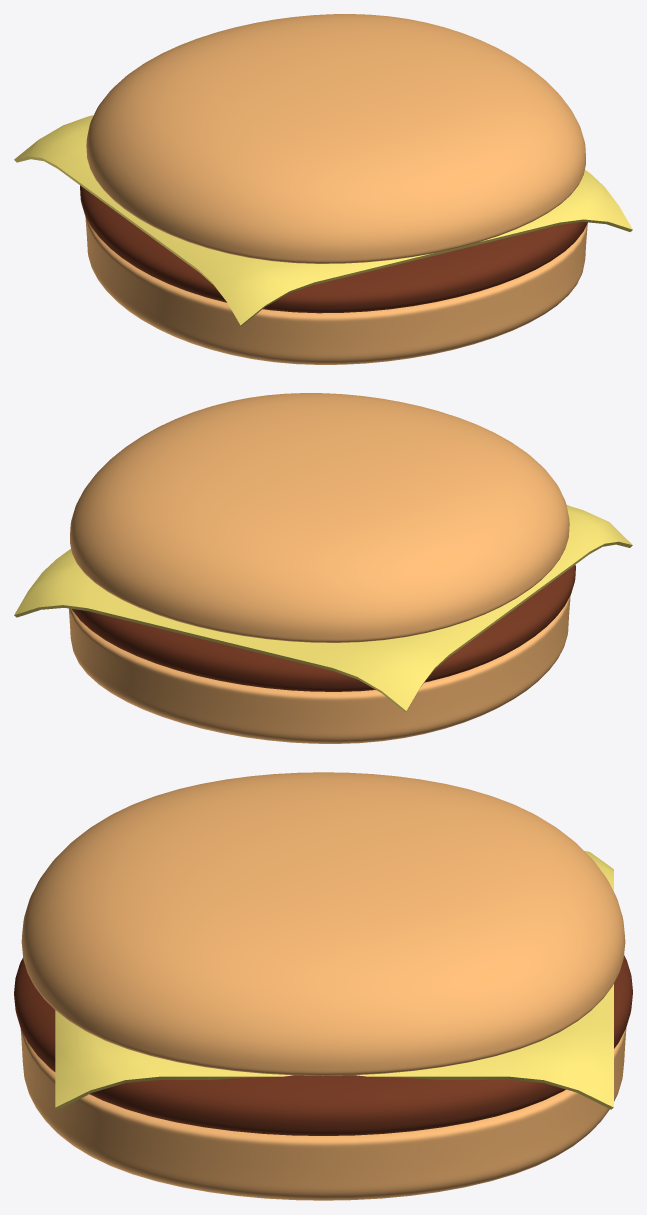
File: hamburger.glb
3 renders of one model, top to bottom at view 1: azimuth 30°, elevation 25°; view 2: azimuth 150°, elevation 25°; view 3: azimuth 270°, elevation 25°, orthographic. The views are drawn at different scales.
Parts seen in each view (by area): view 1: Cube.002, Cube, Cube.001, Plane; view 2: Cube.002, Cube, Plane, Cube.001; view 3: Cube.002, Cube, Cube.001, Plane.
Part boxes in pixels (bbox=[...]): Cube.002: bbox=[86, 14, 585, 263]; Cube: bbox=[85, 216, 587, 364]; Cube.001: bbox=[80, 185, 587, 313]; Plane: bbox=[14, 115, 632, 326]; Cube.002: bbox=[70, 393, 569, 642]; Cube: bbox=[68, 595, 570, 743]; Plane: bbox=[14, 505, 632, 712]; Cube.001: bbox=[72, 565, 575, 691]; Cube.002: bbox=[21, 772, 625, 1075]; Cube: bbox=[20, 1028, 626, 1200]; Cube.001: bbox=[14, 955, 632, 1135]; Plane: bbox=[55, 851, 613, 1109].
Bounding box in the file's own units: 8.82 × 3.98 × 8.82.
